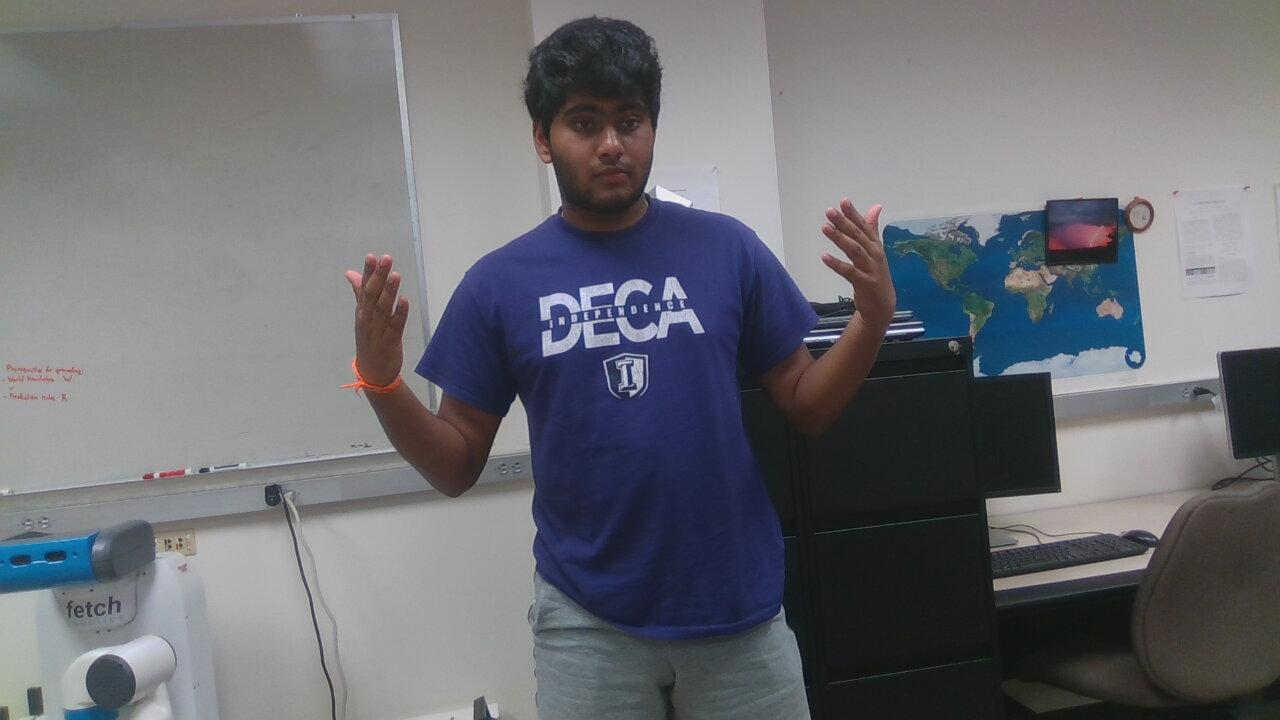hands: (811, 184, 909, 325), (333, 242, 416, 400)
